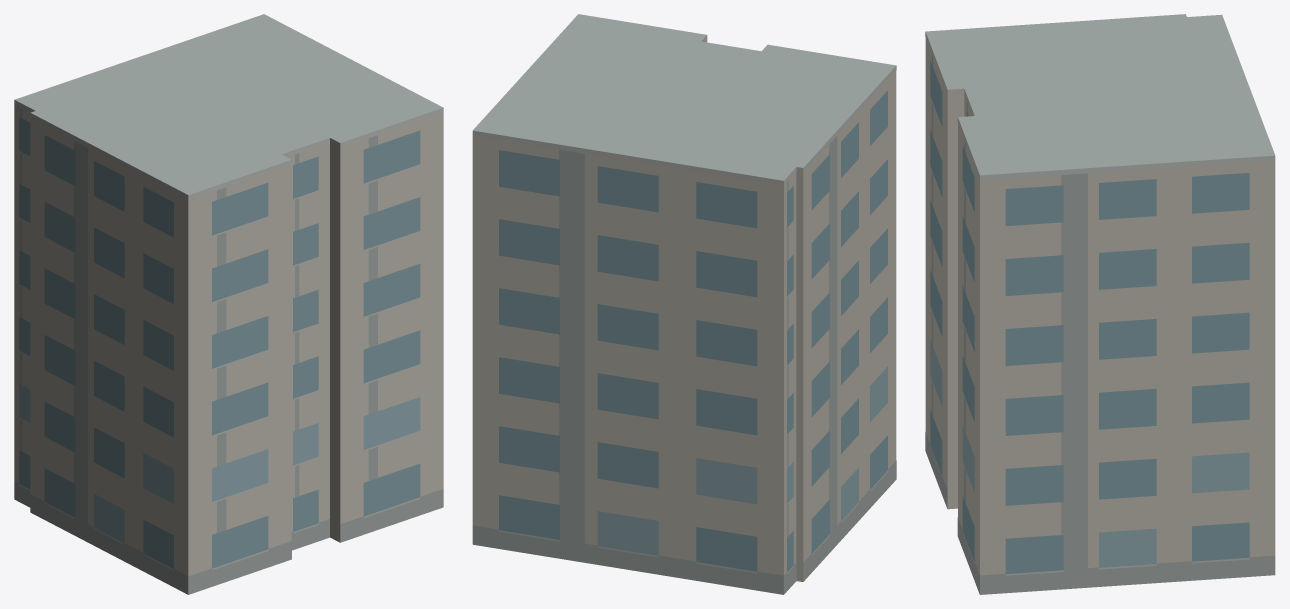
Rendered from survey-upis-32880869.glb.
3 views of the same model, side by side, from view 1: azimuth 30°, elevation 25°; view 2: azimuth 150°, elevation 25°; view 3: azimuth 270°, elevation 25° (orthographic). The views are drawn at different scales.
Parts seen in each view (by area): view 1: survey-upis-32880869.tmp; view 2: survey-upis-32880869.tmp; view 3: survey-upis-32880869.tmp.
Boxes of the visible parts, x1=… form: survey-upis-32880869.tmp: x1=14, y1=14, x2=443, y2=594; survey-upis-32880869.tmp: x1=472, y1=14, x2=896, y2=594; survey-upis-32880869.tmp: x1=925, y1=14, x2=1275, y2=594.
Bounding box in the file's own units: 16.26 × 19.7 × 14.9.
